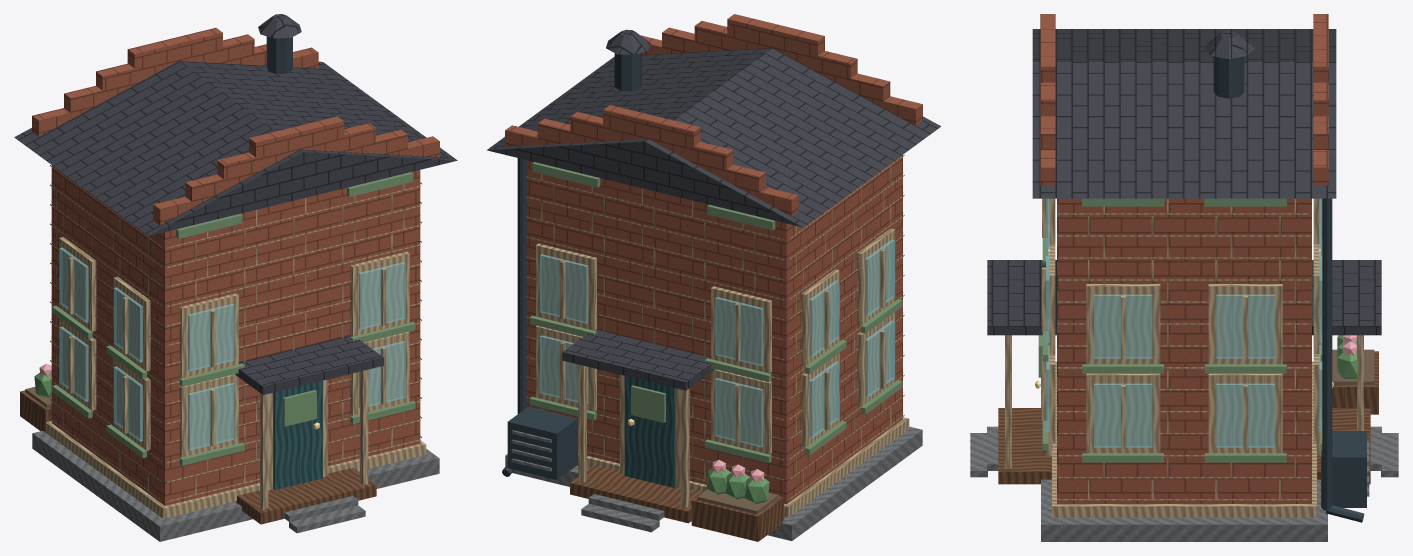
Rendered from house_townhouse_lv3.glb.
The picture shows the model from 3 angles, left to right: view 1: azimuth 30°, elevation 25°; view 2: azimuth 150°, elevation 25°; view 3: azimuth 270°, elevation 25°; orthographic projection. The views are drawn at different scales.
Visible parts, largest first — view 1: walls, gable_roof, foundation, front_porch_canopy, floor_trim, front_door, front_window_frame.003, front_window_frame.002, front_window_frame, front_deck, front_window_frame.001, front_window_glass.003 (+34 smaller); view 2: walls, gable_roof, back_porch_canopy, foundation, back_door, back_window_frame.002, back_window_frame.003, back_window_frame, back_ac_unit, back_deck, back_window_frame.001, back_garden_bed (+37 smaller); view 3: walls, gable_roof, foundation, right_window_frame.002, right_window_frame.003, right_window_frame, right_window_frame.001, floor_trim, front_porch_canopy, back_porch_canopy, right_window_glass, right_window_glass.001 (+34 smaller).
Part boxes in pixels (x1,y1,x2,y2): walls: [51, 165, 420, 505]; gable_roof: [14, 61, 457, 235]; foundation: [32, 431, 439, 541]; front_porch_canopy: [235, 335, 383, 394]; floor_trim: [45, 421, 426, 518]; front_door: [273, 380, 322, 489]; front_window_frame.003: [350, 251, 409, 336]; front_window_frame.002: [179, 293, 238, 378]; front_window_frame: [179, 374, 238, 457]; front_deck: [236, 467, 376, 524]; front_window_frame.001: [350, 331, 409, 415]; front_window_glass.003: [358, 262, 405, 329]; walls: [526, 155, 902, 504]; gable_roof: [487, 48, 940, 227]; back_porch_canopy: [562, 329, 715, 390]; foundation: [505, 426, 922, 540]; back_door: [624, 376, 675, 487]; back_window_frame.002: [711, 286, 771, 373]; back_window_frame.003: [536, 243, 596, 330]; back_window_frame: [711, 369, 771, 454]; back_ac_unit: [507, 406, 577, 479]; back_deck: [570, 465, 703, 523]; back_window_frame.001: [536, 325, 596, 411]; back_garden_bed: [691, 490, 784, 541]; walls: [1057, 198, 1311, 503]; gable_roof: [1032, 29, 1336, 198]; foundation: [1041, 377, 1327, 541]; right_window_frame.002: [1086, 284, 1160, 364]; right_window_frame.003: [1208, 284, 1282, 364]; right_window_frame: [1086, 373, 1160, 453]; right_window_frame.001: [1208, 373, 1282, 453]; floor_trim: [1052, 361, 1316, 517]; front_porch_canopy: [987, 260, 1056, 335]; back_porch_canopy: [1312, 260, 1381, 335]; right_window_glass: [1094, 383, 1152, 447]; right_window_glass.001: [1216, 383, 1274, 447].
Size of the model in its own units: 3.15 by 4.03 by 3.36.
Materials: 13 (7 with a texture image).
